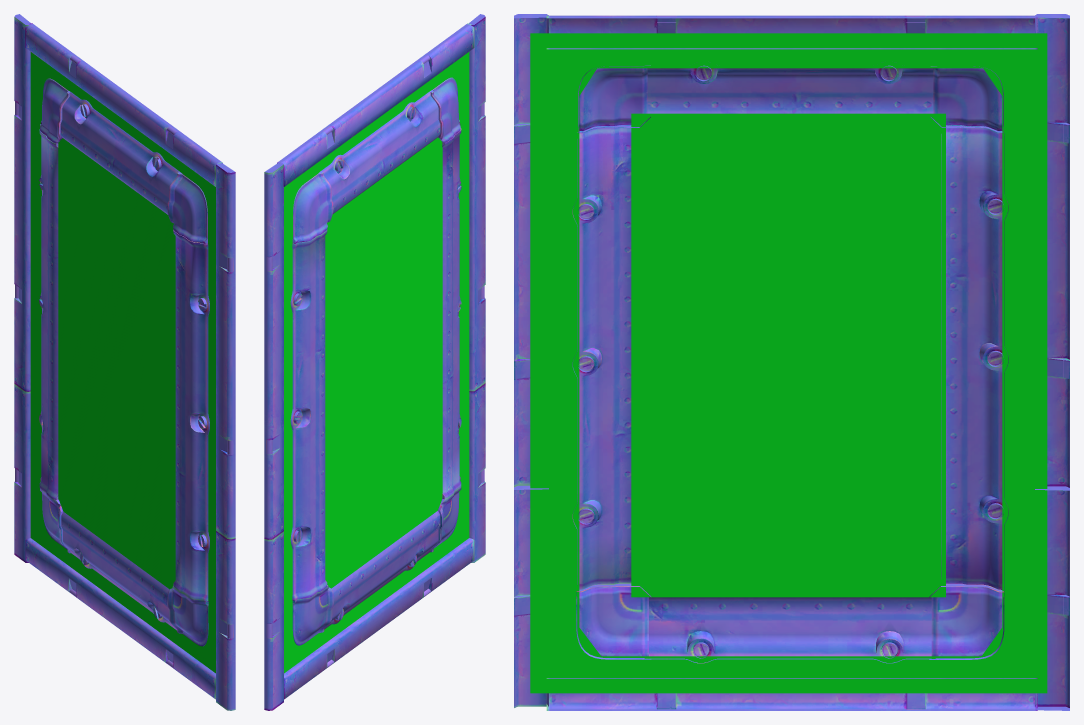
Rendered from Wall_Interior_800x1100_A.fbx.
The picture shows the model from 3 angles, left to right: view 1: azimuth 30°, elevation 25°; view 2: azimuth 150°, elevation 25°; view 3: azimuth 270°, elevation 25°; orthographic projection. The views are drawn at different scales.
Visible parts, largest first — view 1: Geom_Wall_Interior_800x1100_A_LOD00; view 2: Geom_Wall_Interior_800x1100_A_LOD00; view 3: Geom_Wall_Interior_800x1100_A_LOD00.
Part boxes in pixels (x1,y1,x2,y2): Geom_Wall_Interior_800x1100_A_LOD00: (14, 14, 235, 710); Geom_Wall_Interior_800x1100_A_LOD00: (264, 14, 485, 710); Geom_Wall_Interior_800x1100_A_LOD00: (514, 14, 1069, 710).
Size of what is drawn, in the model's own units: 32.34 by 1100 by 800.
